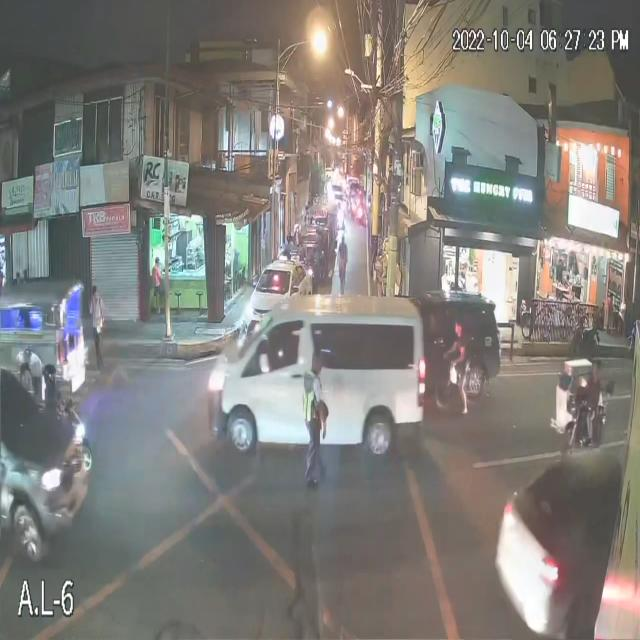Full-Faced: (42, 358, 58, 387)
Not-Wearing-Helmet: (454, 319, 464, 337)
